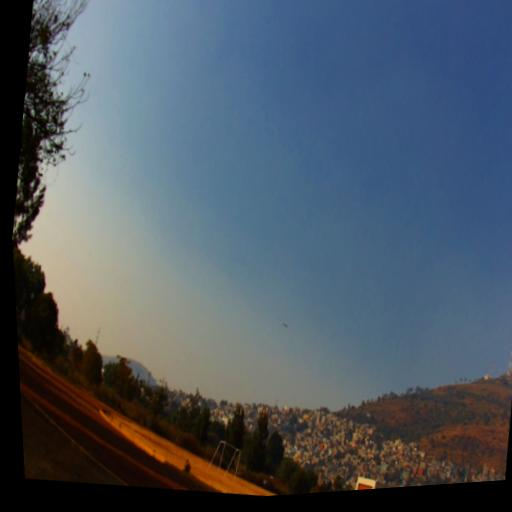drones: (282, 322, 289, 329)
